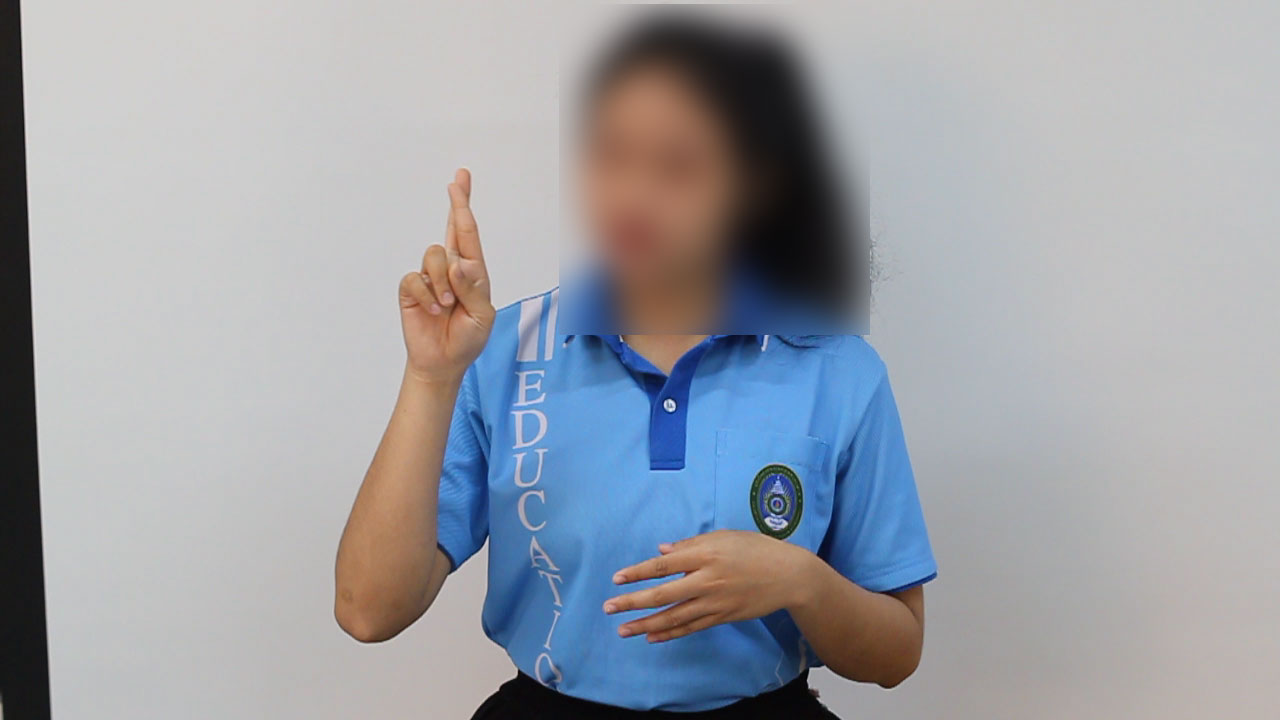rao: (384, 162, 507, 404)
